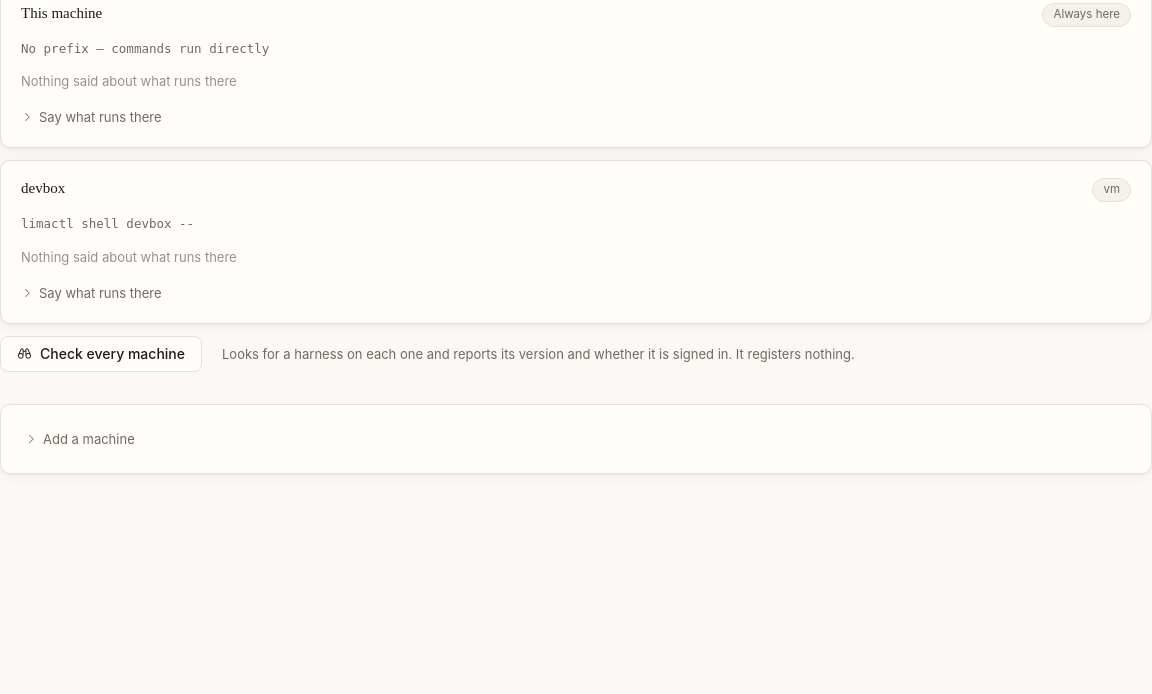
it: MachinesPanel › refuses a machine until it is described, one reason at a time
Click the button "Add a machine".
click(80, 439)  # box [25,425,135,453]
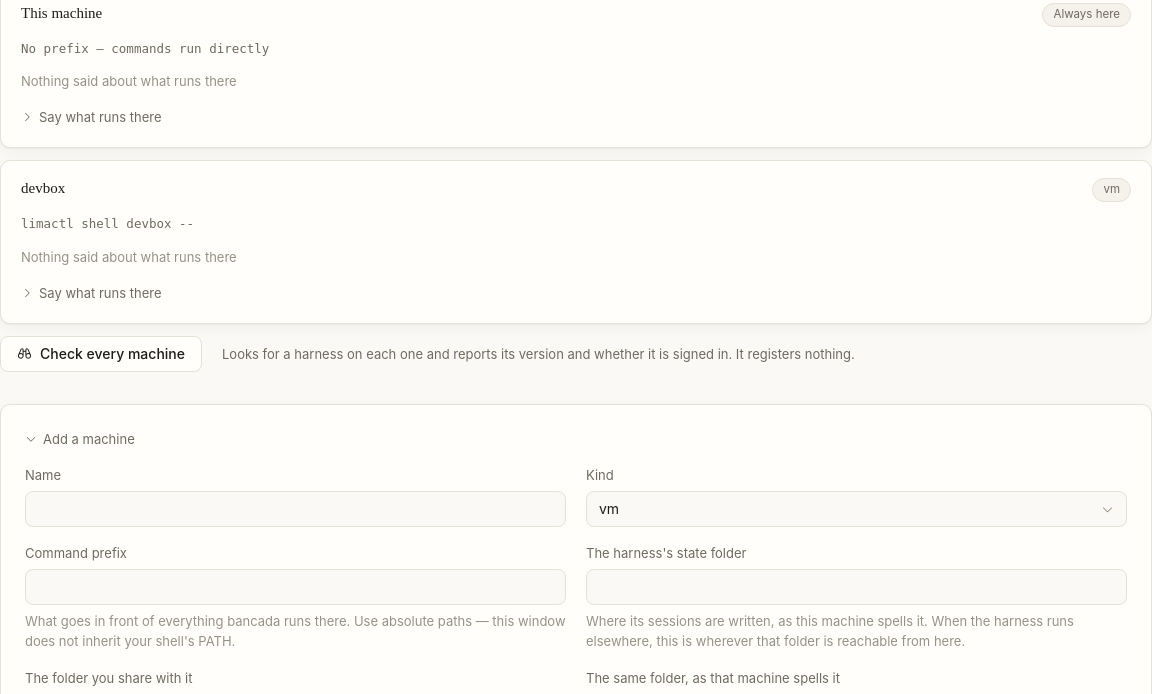
Type "this-machine" into the field labelled "Name".
click(296, 509); type("this-machine")  # box [25,491,566,527]
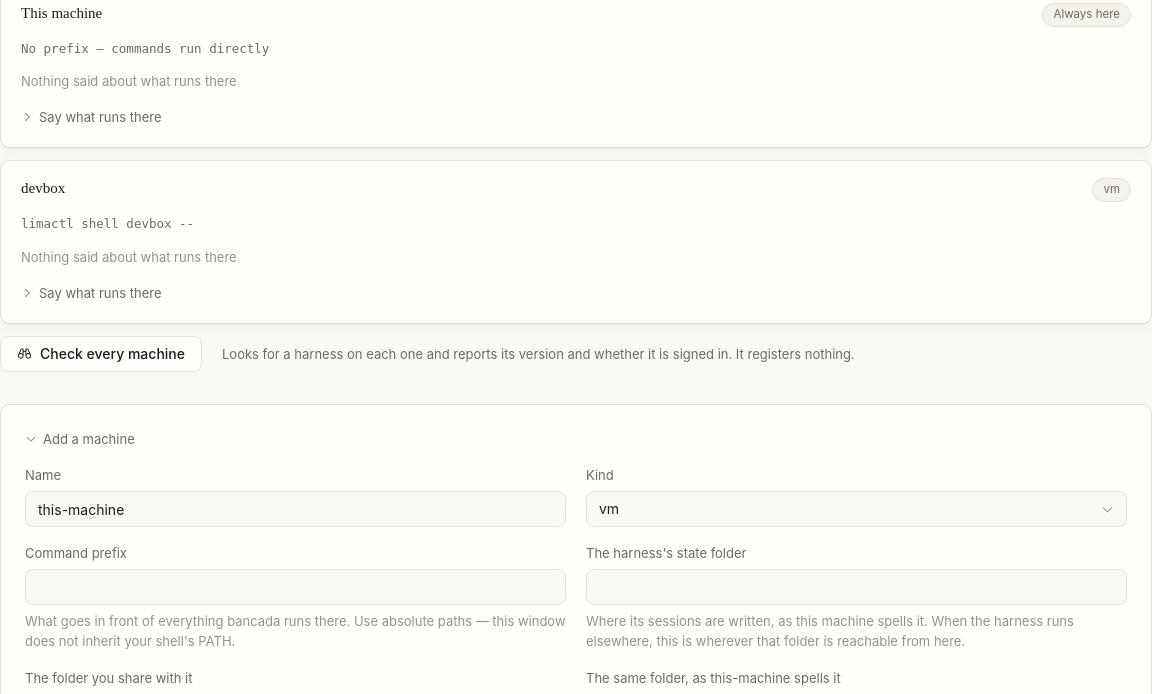
Replace the text in the field labelled "Name" with "devbox" at (296, 509), box [25,491,566,527]
(page scrolled)
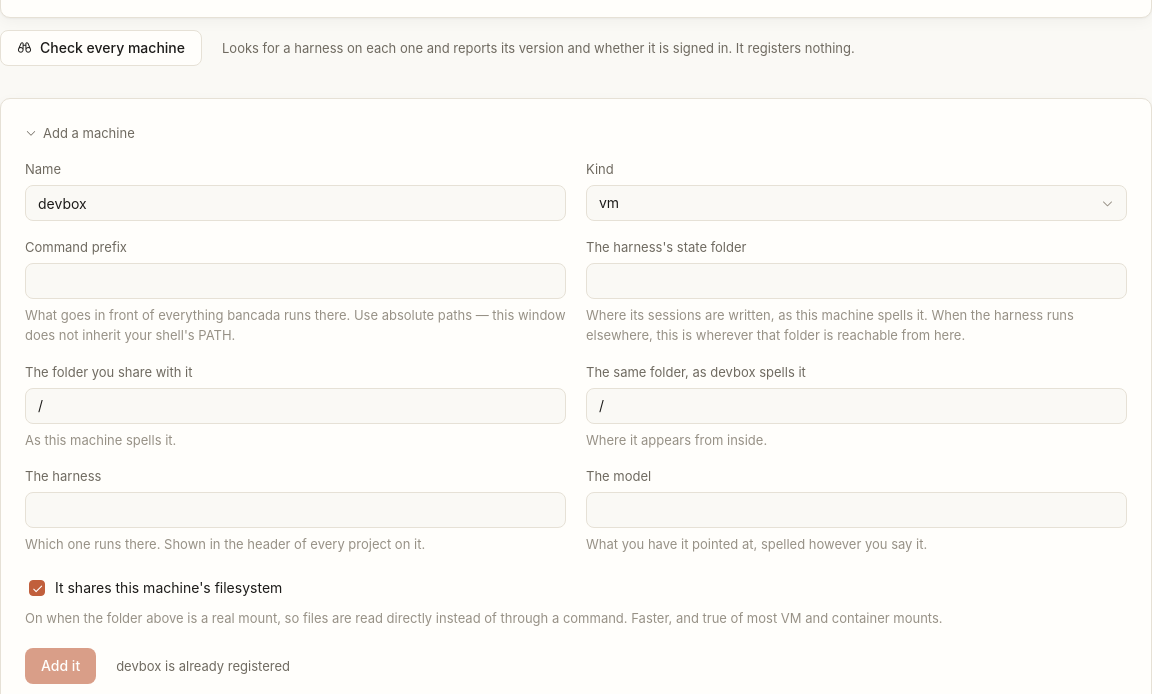
Expected: the text "devbox is already registered" is shown, [116,656,290,676]
